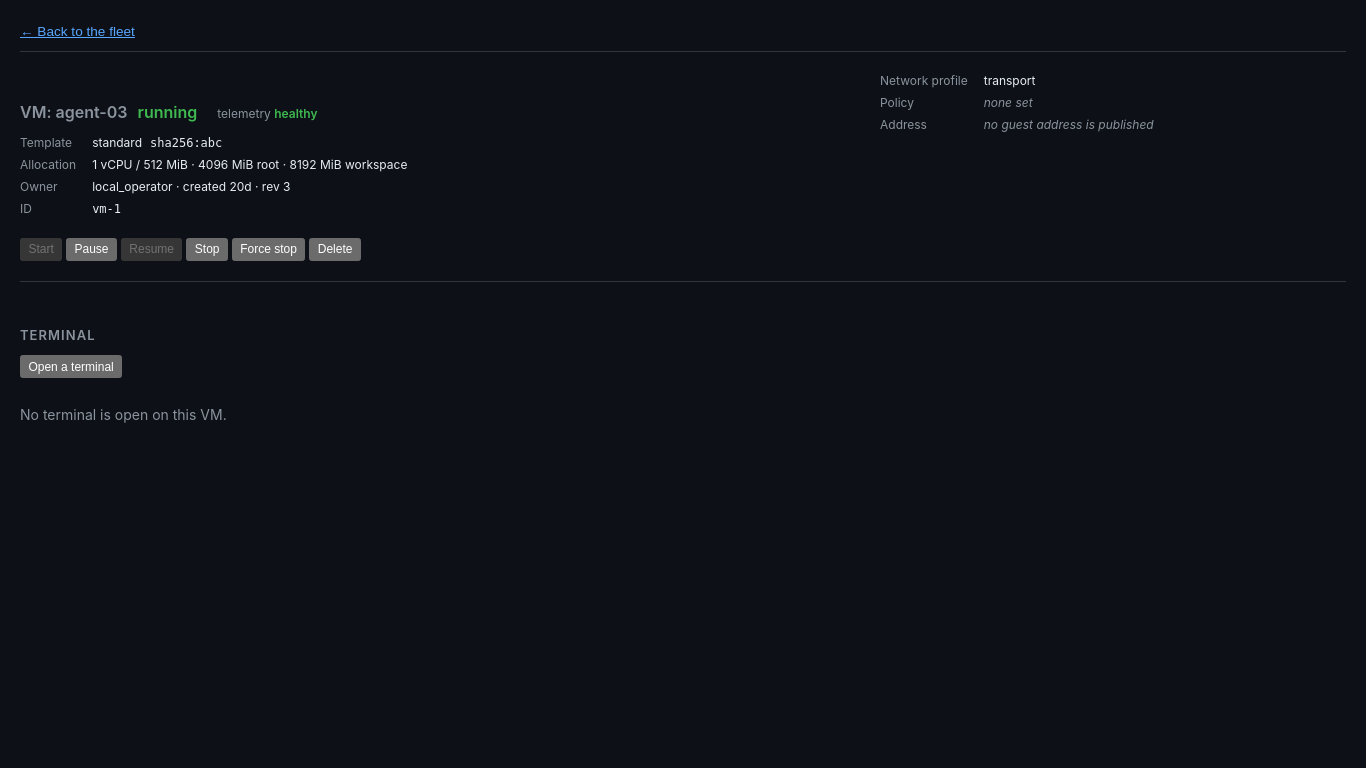
it: VMDetail › asks before it deletes the VM being looked at
The width and height of the screenshot is (1366, 768).
Click the button "Delete" at (335, 249), box [309,238,361,261]
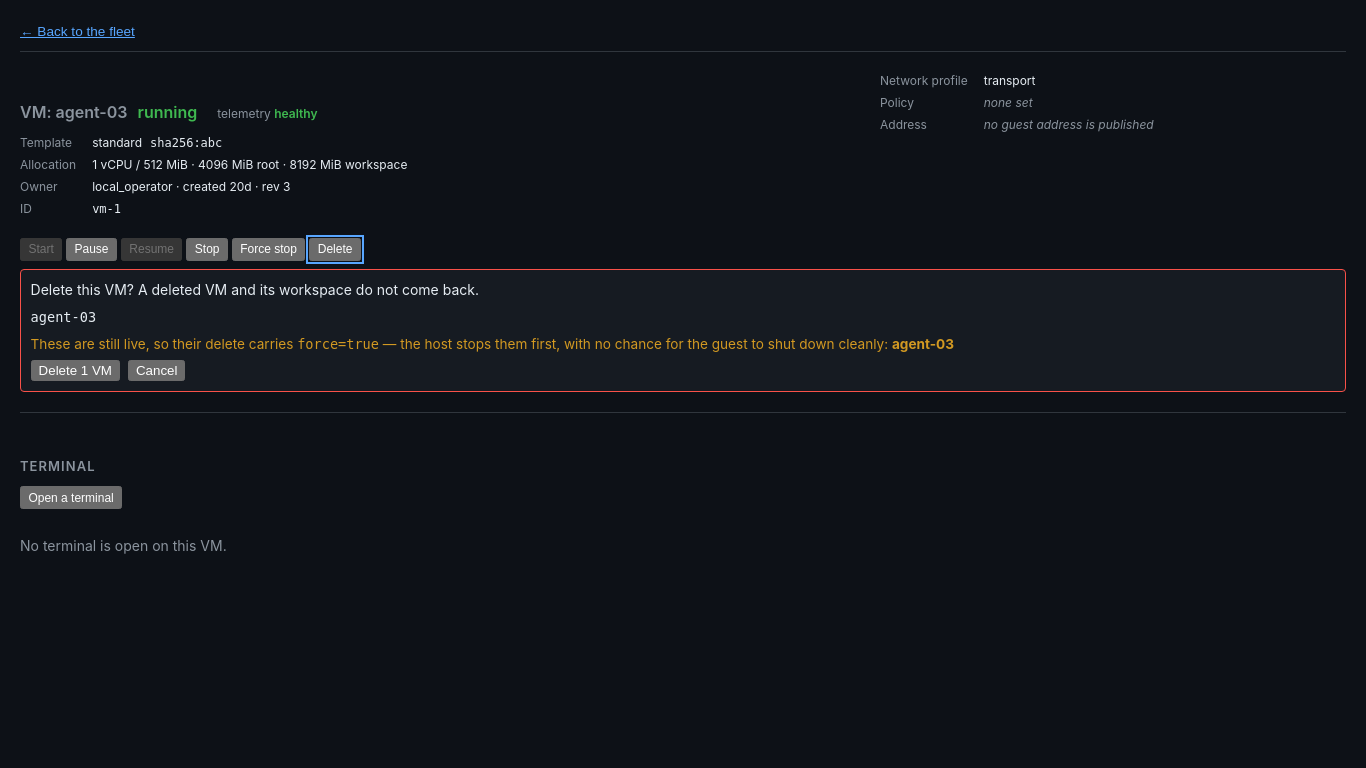
Now the dialog with test id "delete-confirm" shows "agent-03", box [31,309,96,325]
